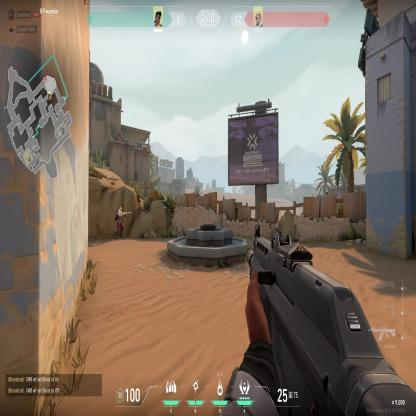enemy: (113, 206, 127, 240)
